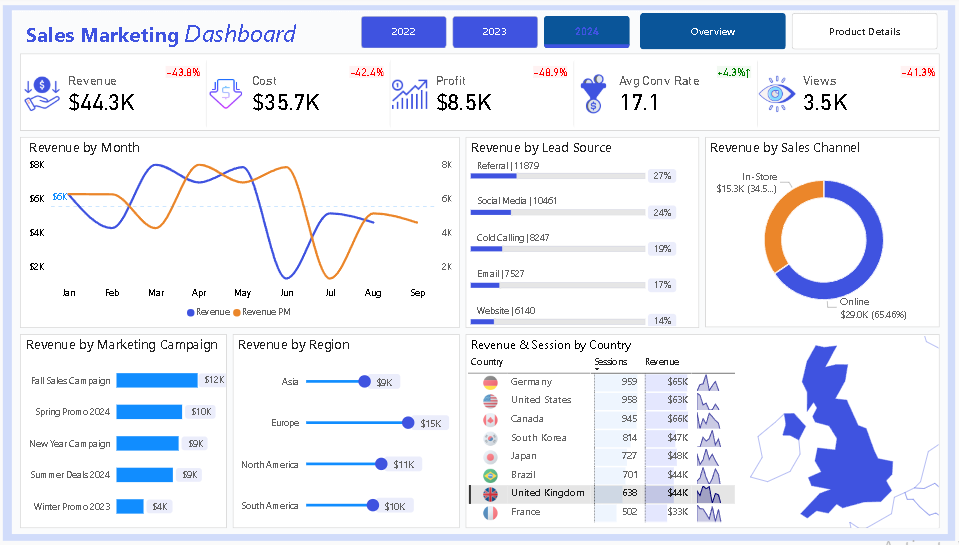

The dashboard page shown, as its layout file describes it:
{"tool":"powerbi","page":{"name":"Overview","canvas":[1300,750],"ordinal":0},"visuals":[{"type":"advancedSlicerVisual","fields":{"Values":["Calendar.Year"]},"box":[491,27.1,363,43.7],"z":0},{"type":"cardVisual","fields":{"Data":["All Measures.Revenue","All Measures.Cost","All Measures.Profit","All Measures.Avg Conversion Rate","All Measures.Views"]},"box":[34.6,81.3,1231.9,99.4],"z":1000},{"type":"lineChart","title":"Revenue by Month","fields":{"Y":["All Measures.Revenue"],"Category":["Calendar.Month"],"Y2":["All Measures.Revenue PM"]},"box":[34.6,192.8,587.3,251.5],"z":2000},{"type":"clusteredBarChart","title":"Revenue by Lead Source","fields":{"Y":["All Measures.Base Zero","All Measures.Rev % of lead","All Measures.Whole"],"Category":["dimLeadSource.Lead Source"]},"box":[632.5,192.8,311.7,251.5],"z":3000},{"type":"clusteredBarChart","fields":{"Y":["All Measures.Revenue"],"Category":["dimMarketingCampaign.Marketing Campaign"]},"box":[34.6,456.3,274.1,257.5],"z":4000},{"type":"donutChart","fields":{"Y":["All Measures.Revenue"],"Category":["dimChannel.Sales Channel"]},"box":[954.8,192.8,311.7,251.5],"z":5000},{"type":"clusteredBarChart","title":"Revenue by Region","fields":{"Y":["All Measures.Blank1","All Measures.Revenue","All Measures.Blank2"],"Category":["dimCountry.Region"]},"box":[319.3,456.3,302.7,257.5],"z":6000},{"type":"tableEx","fields":{"Values":["dimCountry.flag","dimCountry.Country","All Measures.Sessions","All Measures.Revenue","All Measures.Revenue Sparkline"]},"box":[632.5,481.9,363,231.9],"z":7000},{"type":"shapeMap","fields":{"Value":["All Measures.Revenue"],"Category":["dimCountry.Country"]},"box":[995.5,456.3,271.1,257.5],"z":8000},{"type":"textbox","box":[40.7,25.6,420.2,45.2],"z":9000},{"type":"textbox","box":[638.6,456.3,301.2,25.6],"z":10000},{"type":"pageNavigator","box":[866,22.6,400.6,49.7],"z":11000}]}

Visuals, with their boxes in screenshot pixels (x1, y1, x2, y2), scaled from the page's 1300x750 canvas onto the 959x545 screenshot:
advancedSlicerVisual - Calendar.Year: (362, 20, 630, 51)
cardVisual - All Measures.Revenue x All Measures.Cost: (26, 59, 934, 131)
"Revenue by Month" lineChart: (26, 140, 459, 323)
"Revenue by Lead Source" clusteredBarChart: (467, 140, 697, 323)
clusteredBarChart - All Measures.Revenue x dimMarketingCampaign.Marketing Campaign: (26, 332, 228, 519)
donutChart - All Measures.Revenue x dimChannel.Sales Channel: (704, 140, 934, 323)
"Revenue by Region" clusteredBarChart: (236, 332, 459, 519)
tableEx - dimCountry.flag x dimCountry.Country: (467, 350, 734, 519)
shapeMap - All Measures.Revenue x dimCountry.Country: (734, 332, 934, 519)
textbox: (30, 19, 340, 51)
textbox: (471, 332, 693, 350)
pageNavigator: (639, 16, 934, 53)
